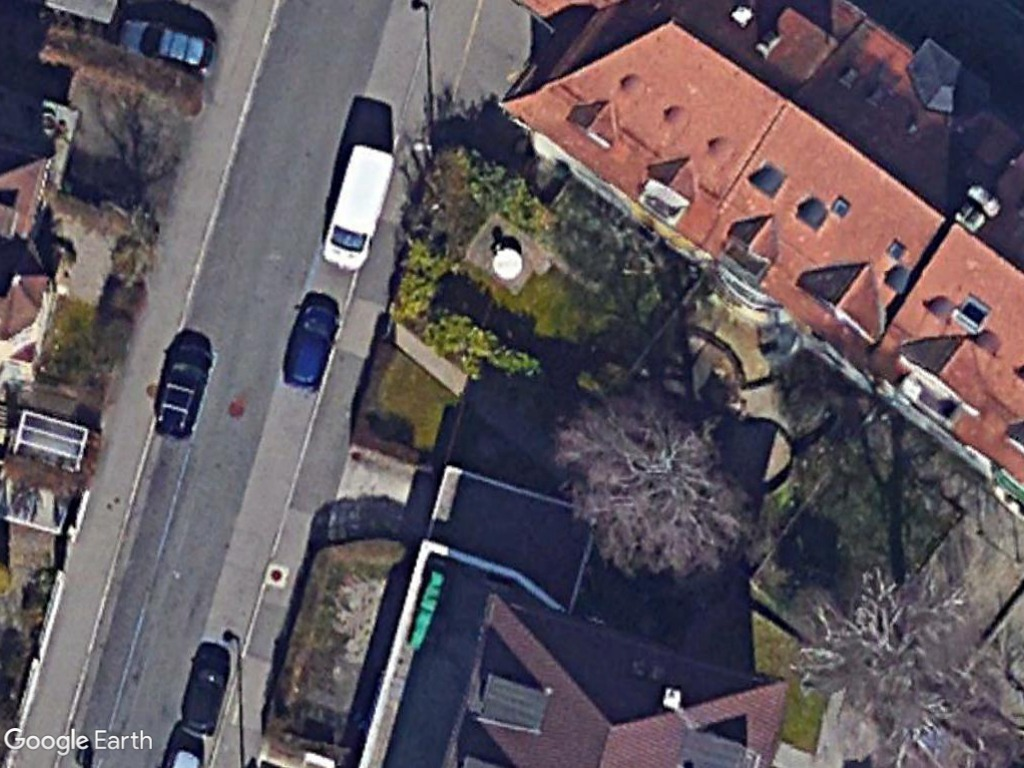car: (115, 14, 220, 79), (280, 300, 340, 395)
van: (318, 138, 397, 274)
